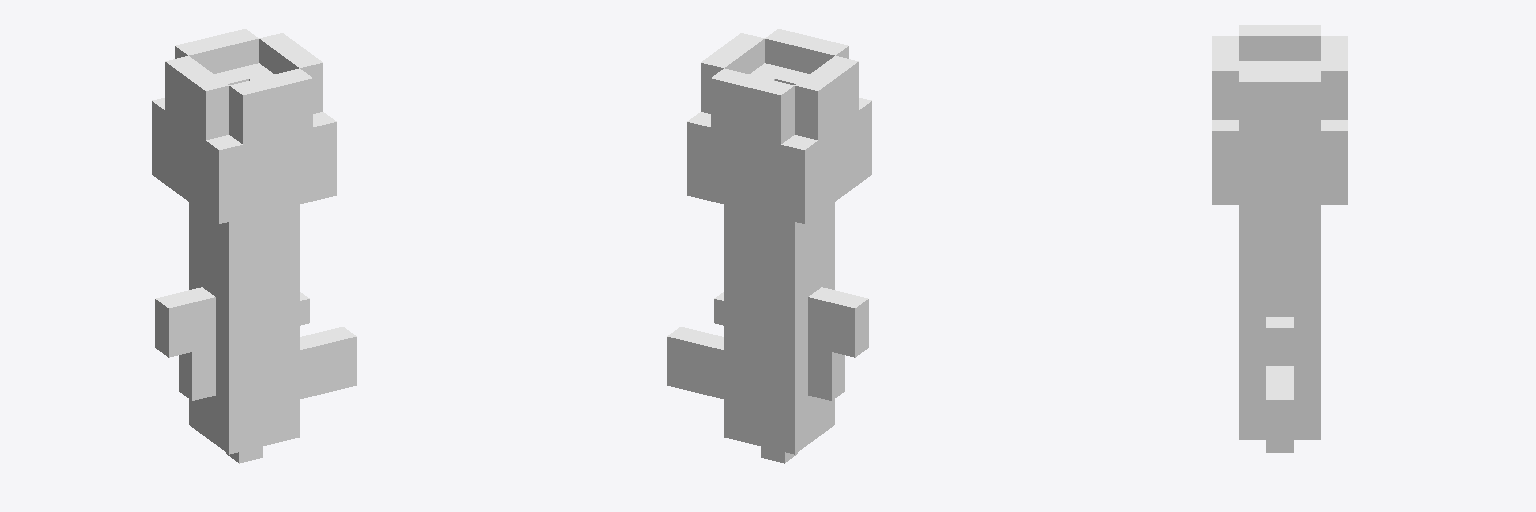
Rendered from weapon_01.obj.
The picture shows the model from 3 angles: view 1: azimuth 30°, elevation 25°; view 2: azimuth 150°, elevation 25°; view 3: azimuth 270°, elevation 25°; orthographic projection.
Bounding box in the file's own units: 8 × 16 × 5.